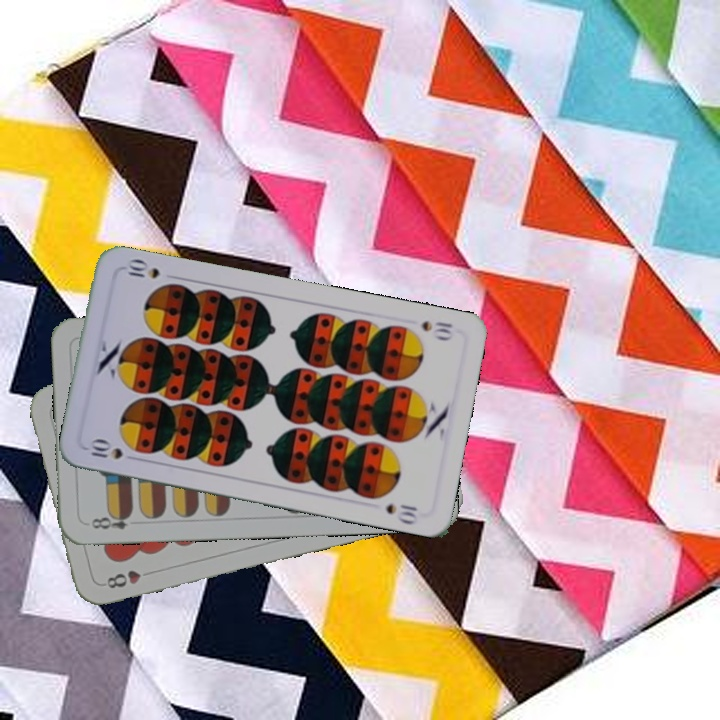E8: (87, 508, 135, 532)
H8: (102, 566, 157, 591)
S10: (86, 436, 126, 462), (417, 316, 455, 343)
